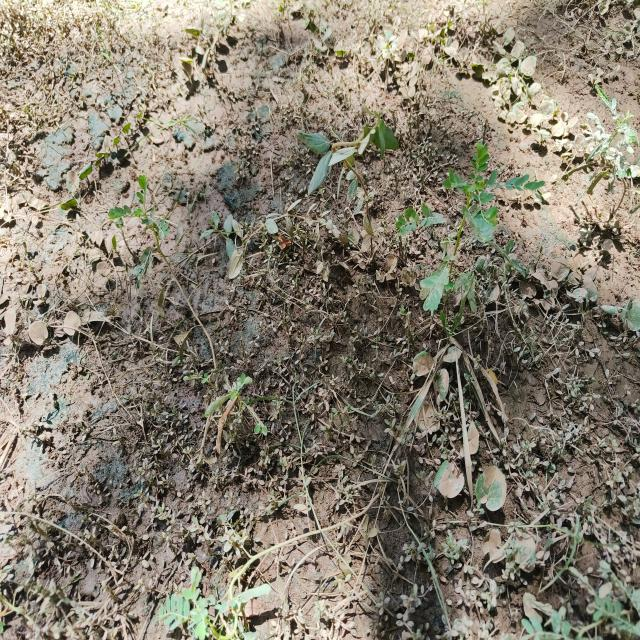weed: (396, 146, 538, 327)
